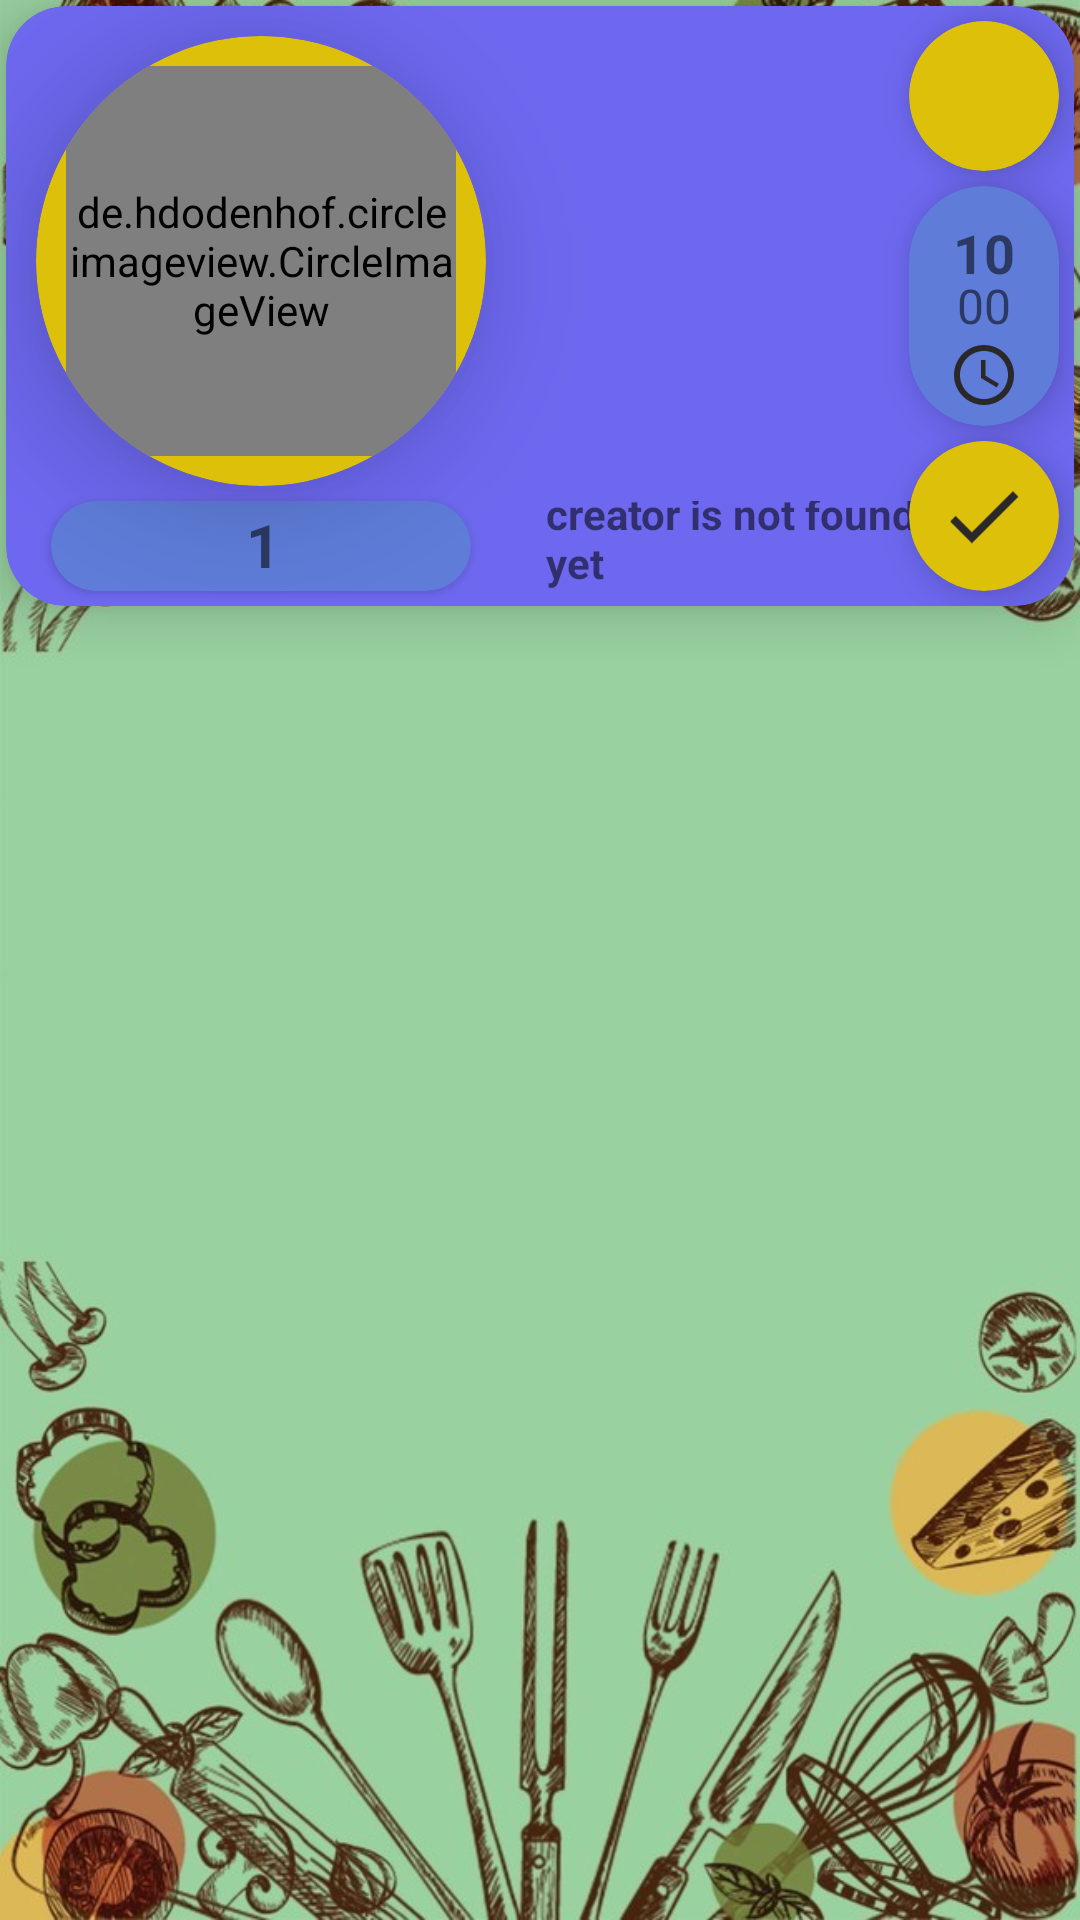

Icon click points for this 1080 × 1920 phone screenshot, format point (x, y):
access time: point (984, 375)
done: point (984, 517)
